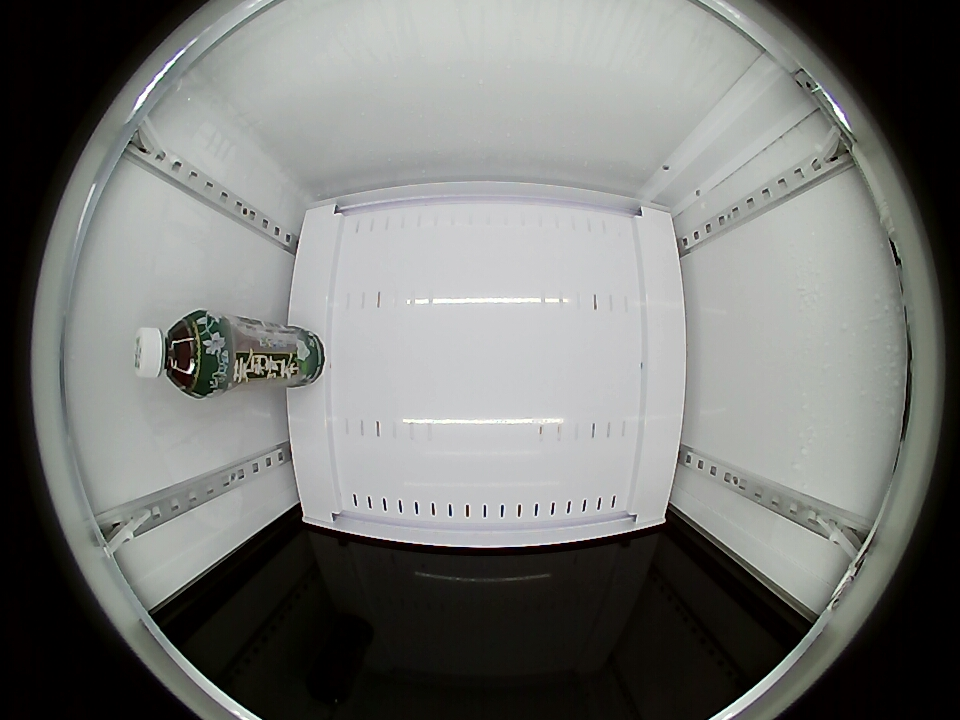moliqingcha: (132, 310, 224, 399)
